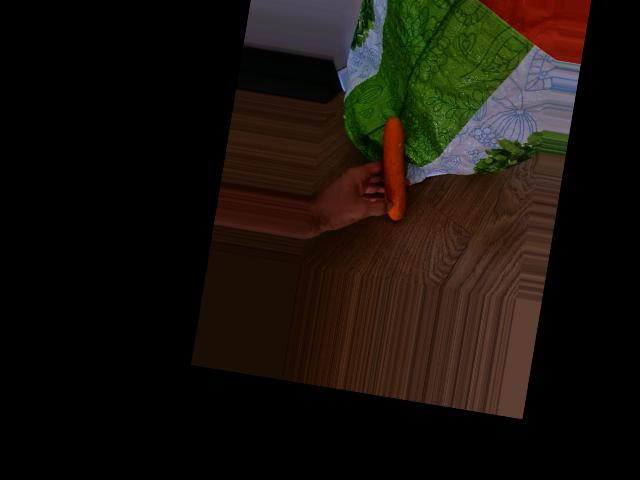carrot: (373, 118, 421, 225)
